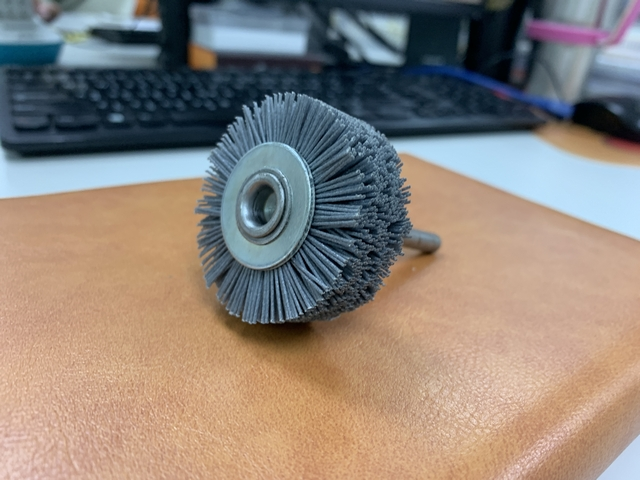Wheel Brush: (189, 83, 517, 348), (214, 116, 458, 326)
